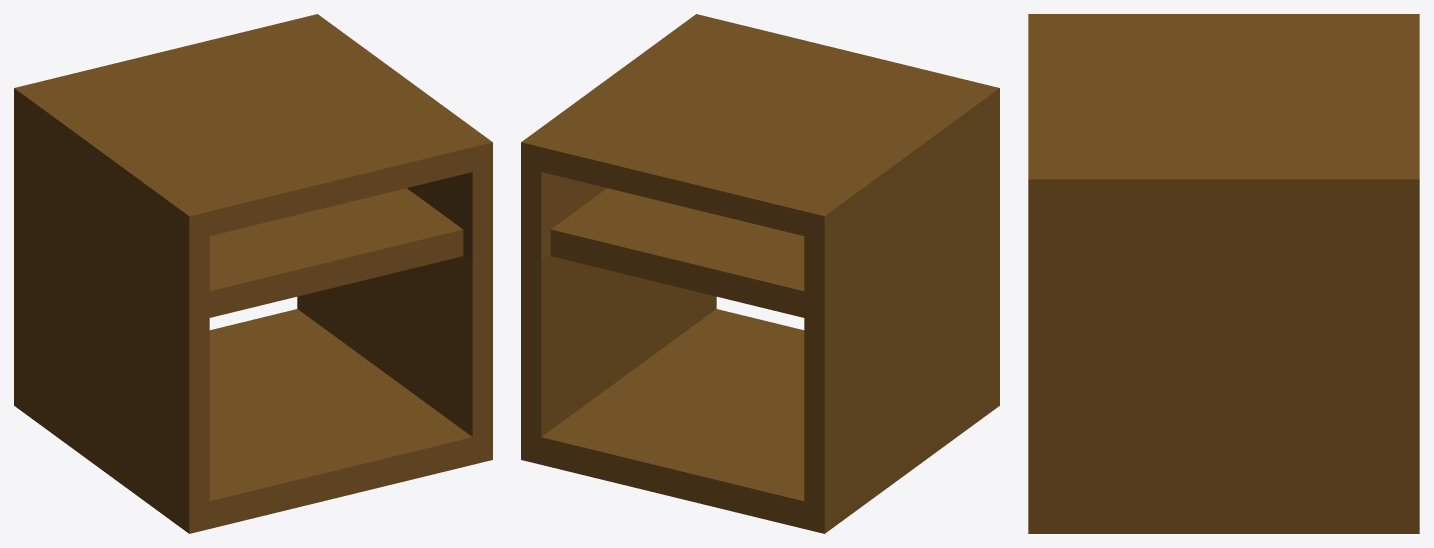
Rendered from tv_stand.glb.
3 renders of one model, left to right at view 1: azimuth 30°, elevation 25°; view 2: azimuth 150°, elevation 25°; view 3: azimuth 270°, elevation 25°, orthographic. The views are drawn at different scales.
Visible parts, largest first — view 1: tv; view 2: tv; view 3: tv.
Part boxes in pixels (x1=…): tv: x1=14, y1=14, x2=492, y2=533; tv: x1=521, y1=14, x2=999, y2=533; tv: x1=1028, y1=14, x2=1419, y2=533.
Bounding box in the file's own units: 1 × 1 × 1.
